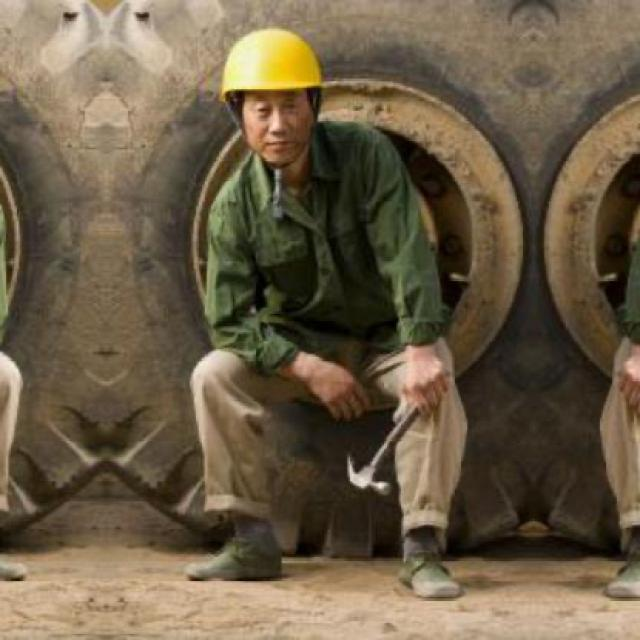con casco: (203, 32, 369, 172)
